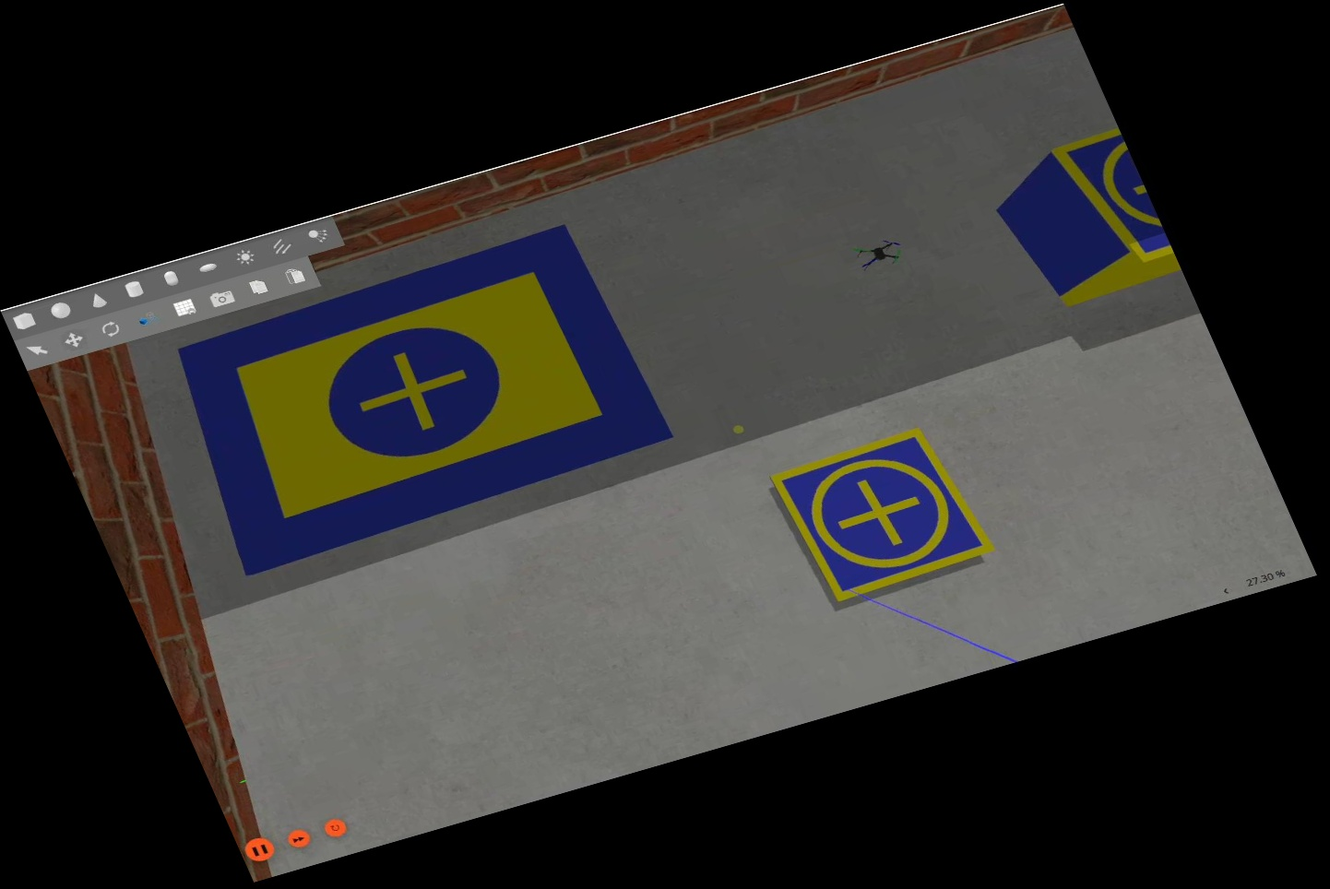large_base: (141, 219, 681, 575)
small_base: (767, 422, 999, 605), (1051, 126, 1177, 272)
